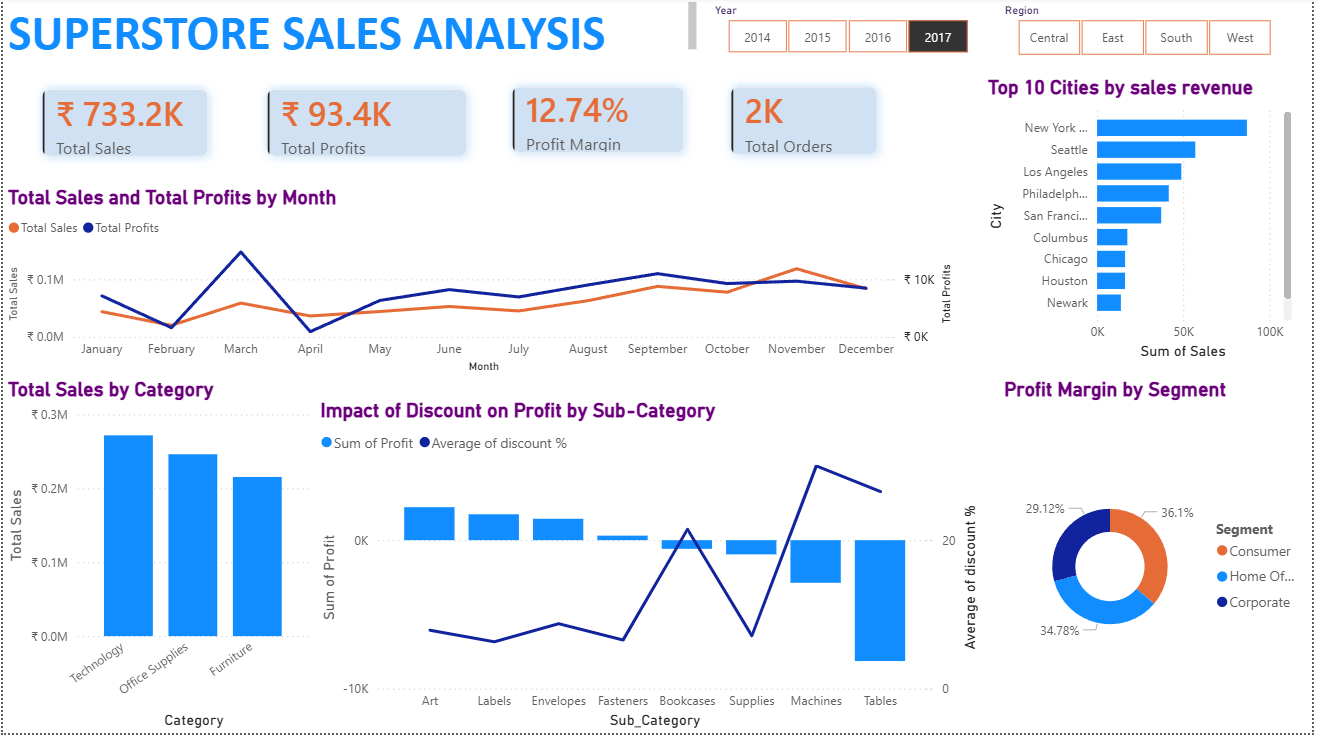

Layout of this report page (visuals, bound fields, positions):
{"tool":"powerbi","page":{"name":"SuperStore","canvas":[1280,720],"ordinal":0},"visuals":[{"type":"cardVisual","fields":{"Data":["order details.Total Profits"]},"box":[229.9,61.1,253.1,124.7],"z":0},{"type":"cardVisual","fields":{"Data":["order details.Profit Margin"]},"box":[469.6,58.7,226.2,123.5],"z":1000},{"type":"cardVisual","fields":{"Data":["orders.Total Orders"]},"box":[683.6,58.7,201.8,126],"z":2000},{"type":"cardVisual","fields":{"Data":["order details.Total Sales"]},"box":[9.8,61.1,220.1,124.7],"z":3000},{"type":"textbox","box":[0,0,683.4,61.7],"z":4000},{"type":"columnChart","fields":{"Category":["products.Category"],"Y":["order details.Total Sales"]},"box":[0,373,305.7,347.3],"z":5000},{"type":"donutChart","fields":{"Category":["customers.Segment"],"Y":["order details.Profit Margin"]},"box":[974.3,373.2,306,347.2],"z":6000},{"type":"clusteredBarChart","title":"Top 10 Cities by sales revenue","fields":{"Category":["Location.City"],"Y":["Sum(order details.Sales)"]},"box":[959.2,76.8,307.4,282.7],"z":7000},{"type":"lineChart","fields":{"Category":["orders.OrderDate.Variation.Date Hierarchy.Year","orders.OrderDate.Variation.Date Hierarchy.Month"],"Y":["order details.Total Sales"],"Y2":["order details.Total Profits"]},"box":[0,185.2,934.5,188],"z":8000},{"type":"slicer","fields":{"Values":["orders.OrderDate.Variation.Date Hierarchy.Year"]},"box":[683.6,1.2,283.7,59.9],"z":9000},{"type":"slicer","fields":{"Values":["Location.Region"]},"box":[967.3,1.2,297.1,62.4],"z":10000},{"type":"lineStackedColumnComboChart","title":"Impact of Discount on Profit by Sub-Category","fields":{"Category":["products.Sub_Category"],"Y":["Sum(order details.Profit)"],"Y2":["Avg(order details.discount % )"]},"box":[306,393.8,653.2,326.6],"z":11000}]}

Visuals, with their boxes in screenshot pixels (x1, y1, x2, y2), scaled from the page's 1280x720 canvas onto the 1318x738 screenshot:
cardVisual - order details.Total Profits: select_region(237, 63, 497, 190)
cardVisual - order details.Profit Margin: select_region(484, 60, 716, 187)
cardVisual - orders.Total Orders: select_region(704, 60, 912, 189)
cardVisual - order details.Total Sales: select_region(10, 63, 237, 190)
textbox: select_region(0, 0, 704, 63)
columnChart - products.Category x order details.Total Sales: select_region(0, 382, 315, 737)
donutChart - customers.Segment x order details.Profit Margin: select_region(1003, 383, 1317, 737)
"Top 10 Cities by sales revenue" clusteredBarChart: select_region(988, 79, 1304, 368)
lineChart - orders.OrderDate.Variation.Date Hierarchy.Year x orders.OrderDate.Variation.Date Hierarchy.Month: select_region(0, 190, 962, 383)
slicer - orders.OrderDate.Variation.Date Hierarchy.Year: select_region(704, 1, 996, 63)
slicer - Location.Region: select_region(996, 1, 1302, 65)
"Impact of Discount on Profit by Sub-Category" lineStackedColumnComboChart: select_region(315, 404, 988, 737)
